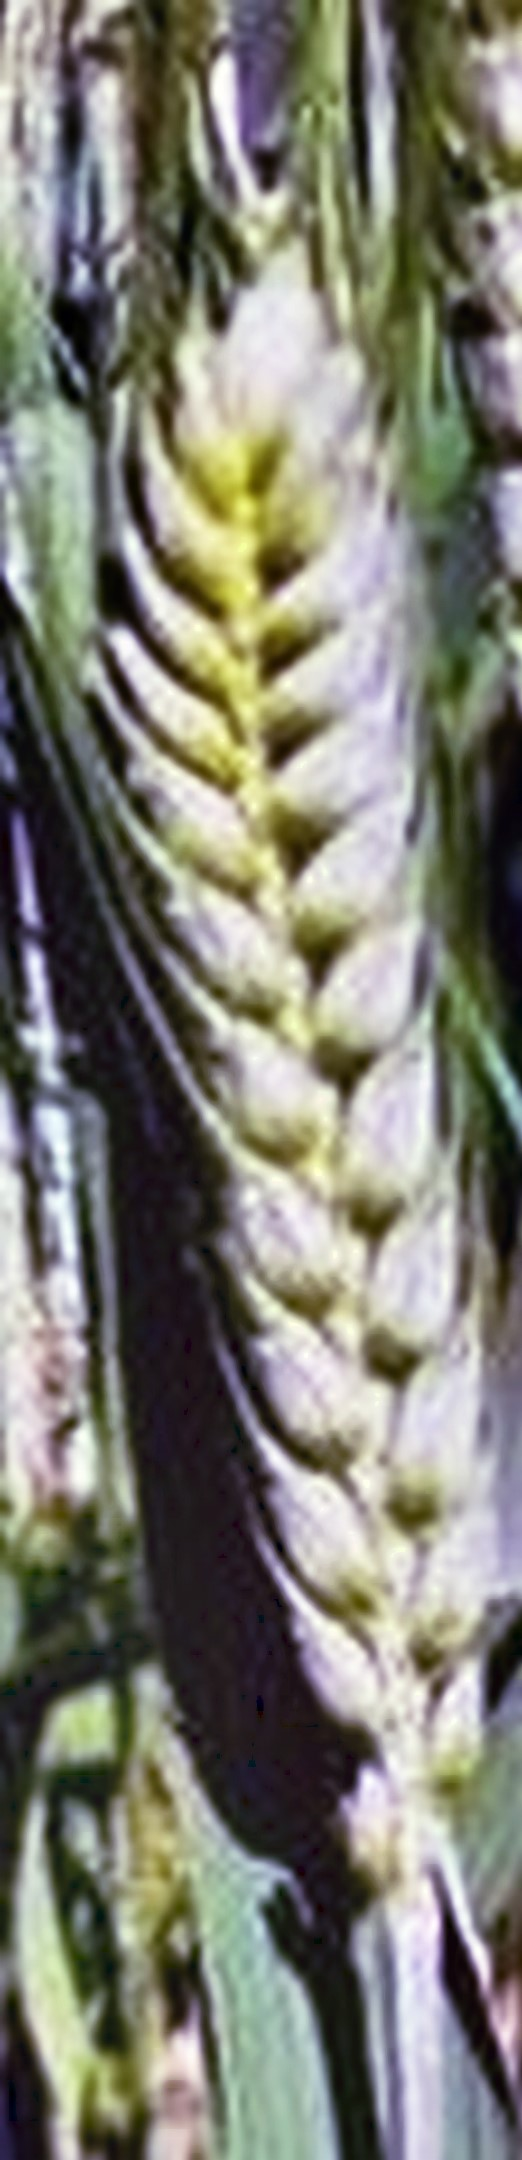Healthy Wheat: (61, 309, 522, 1752)
